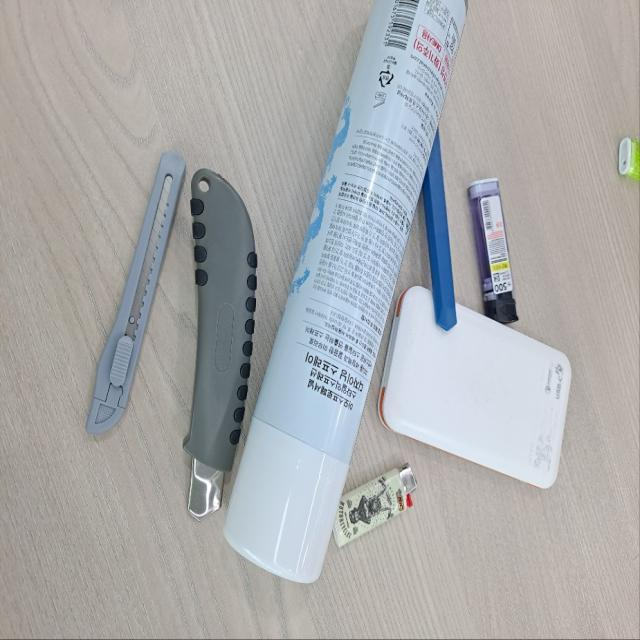cutter: (76, 146, 192, 438), (172, 166, 260, 524), (417, 123, 462, 338)
lighter: (459, 175, 530, 328), (330, 462, 422, 558), (611, 128, 640, 184)
portable_charger: (376, 280, 574, 497)
spray: (222, 0, 471, 585)
